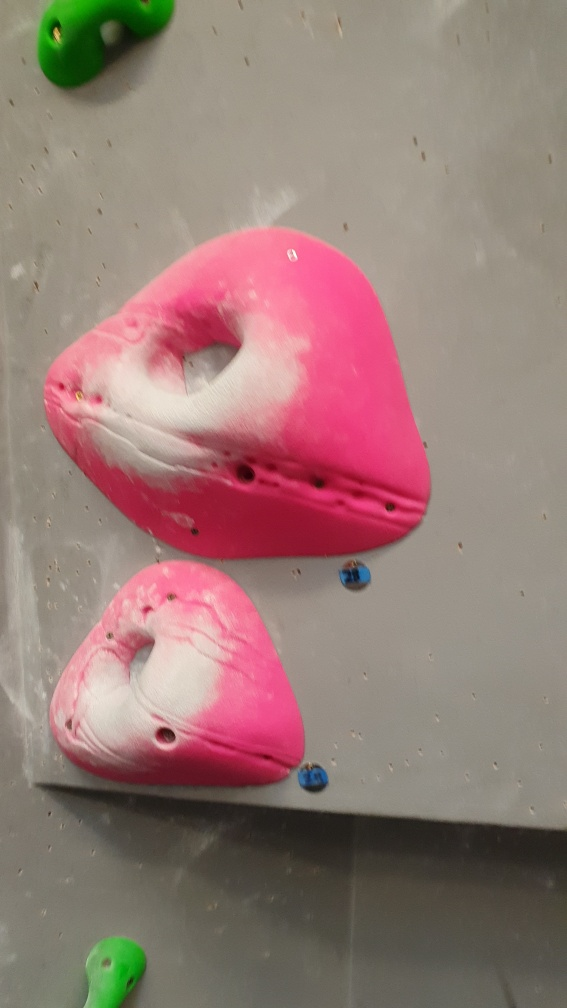Hand Start: (295, 762, 333, 798), (334, 560, 372, 594)
Pocket: (39, 220, 434, 566), (45, 554, 311, 793)
